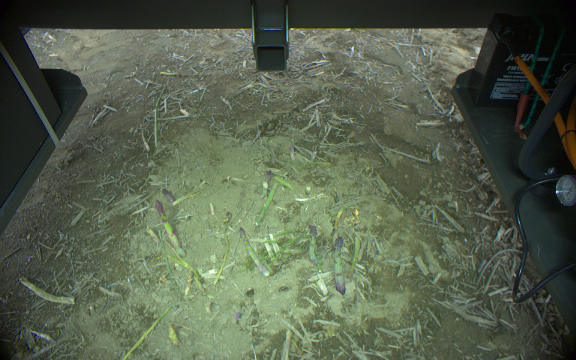aspa: (237, 227, 270, 278), (154, 198, 183, 255), (255, 182, 278, 224), (212, 233, 228, 286), (332, 235, 345, 294), (349, 235, 362, 280), (306, 223, 317, 265), (166, 325, 182, 348), (161, 187, 174, 204)
